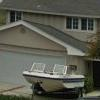Boat: (15, 55, 87, 96)
